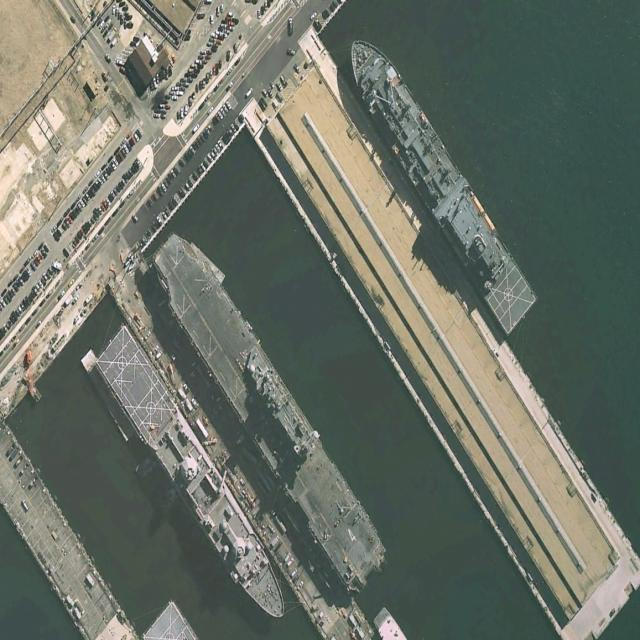Auxiliary Ships: (93, 322, 296, 637)
Commander: (334, 21, 542, 338)
Landing: (143, 218, 393, 602)
